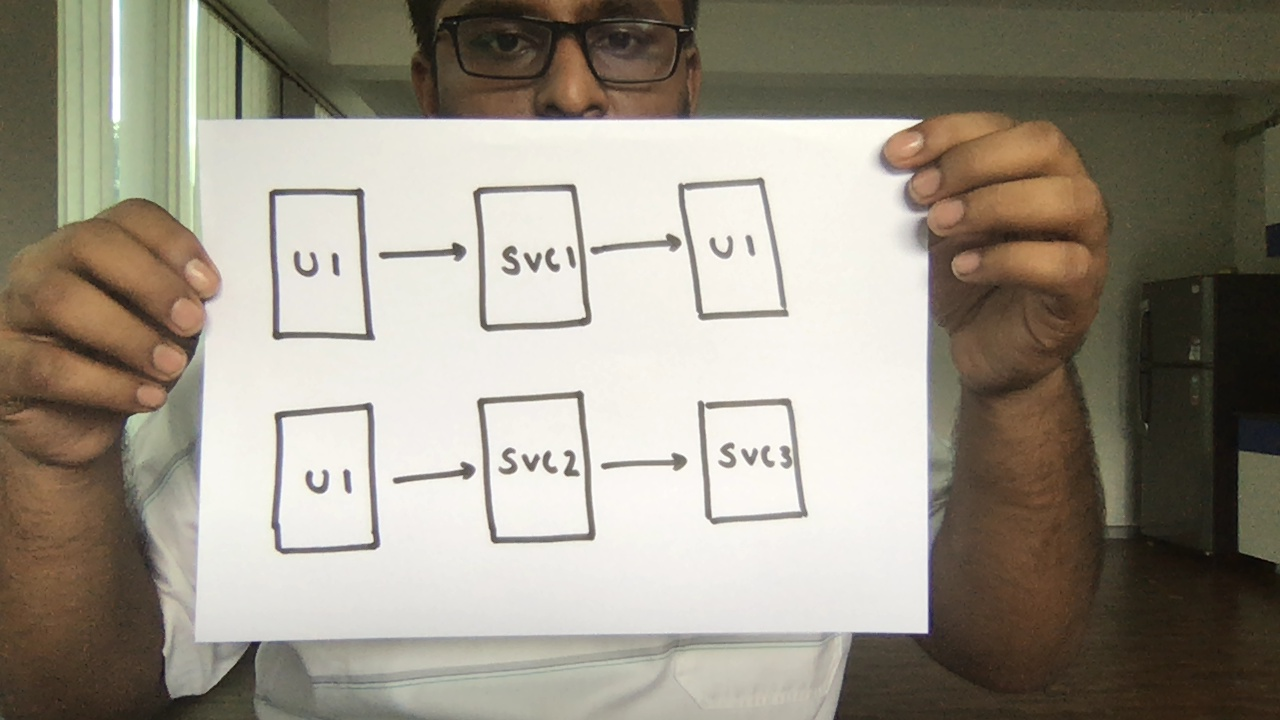arrow: (371, 233, 472, 281), (585, 224, 686, 272), (381, 453, 482, 501), (594, 443, 695, 491)
ec2: (469, 387, 603, 551), (467, 179, 597, 336), (694, 392, 815, 528)
ui: (672, 174, 799, 326), (261, 185, 378, 347), (267, 401, 384, 563)
